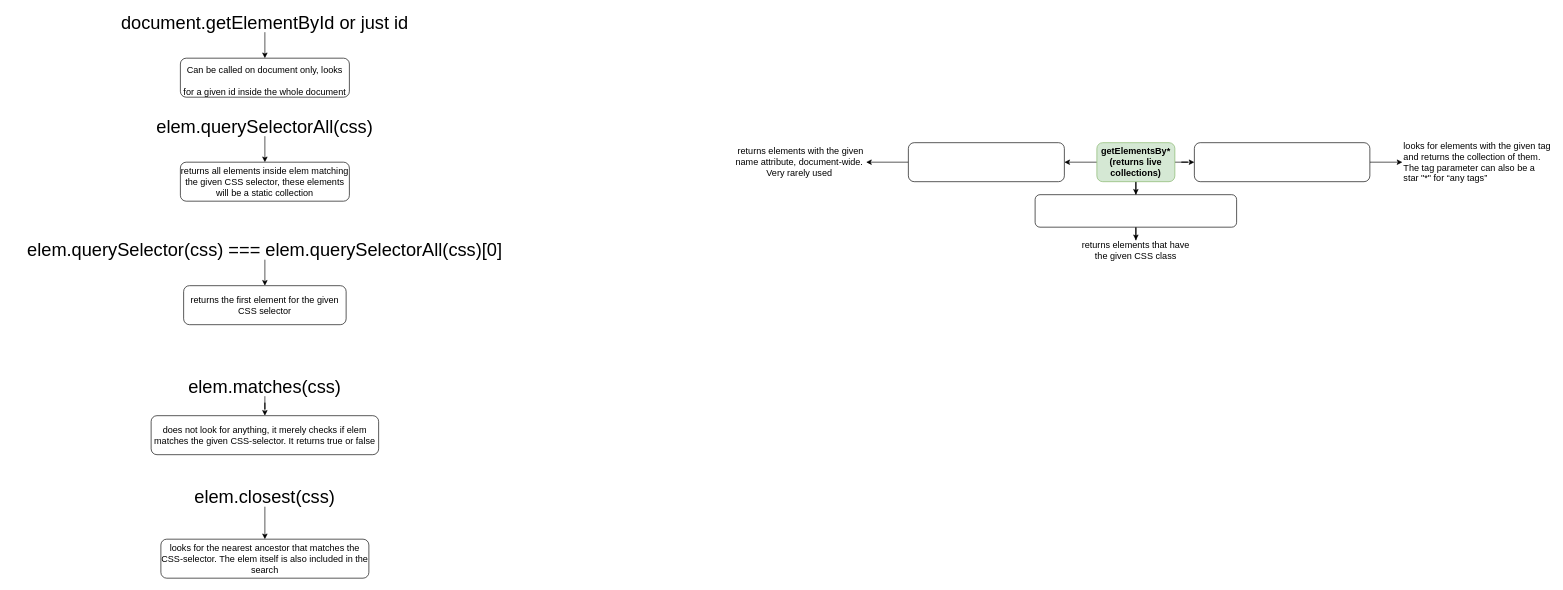
This 1563x590 diagram has some shape labels left out. The shapes that lost their labels are listed below. From the top down, each one's centre as x and y in pixels, then its label:
point 986,162: document.getElementsByName(name)
point 1282,162: elem.getElementsByTagName(tag)
point 1135,210: elem.getElementsByClassName(className)
